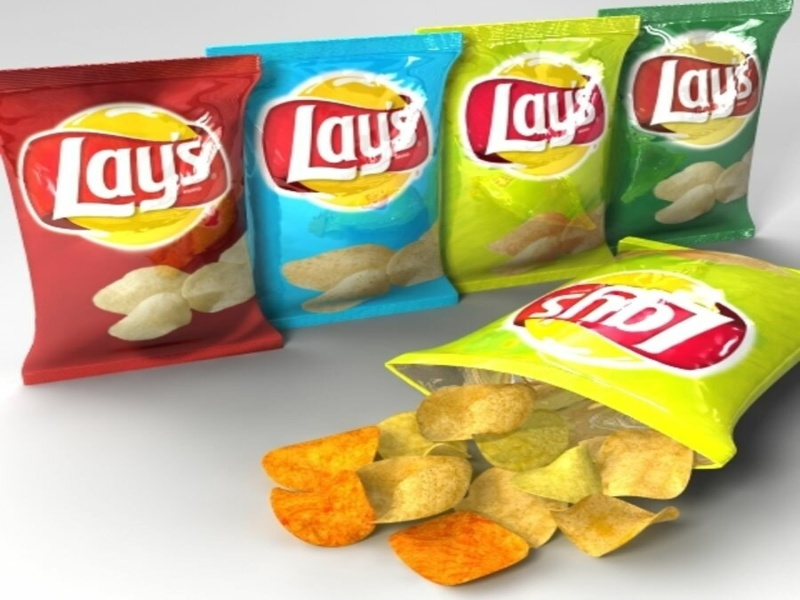chips: (1, 48, 285, 377), (234, 32, 465, 331), (596, 1, 791, 258), (463, 18, 633, 282)
